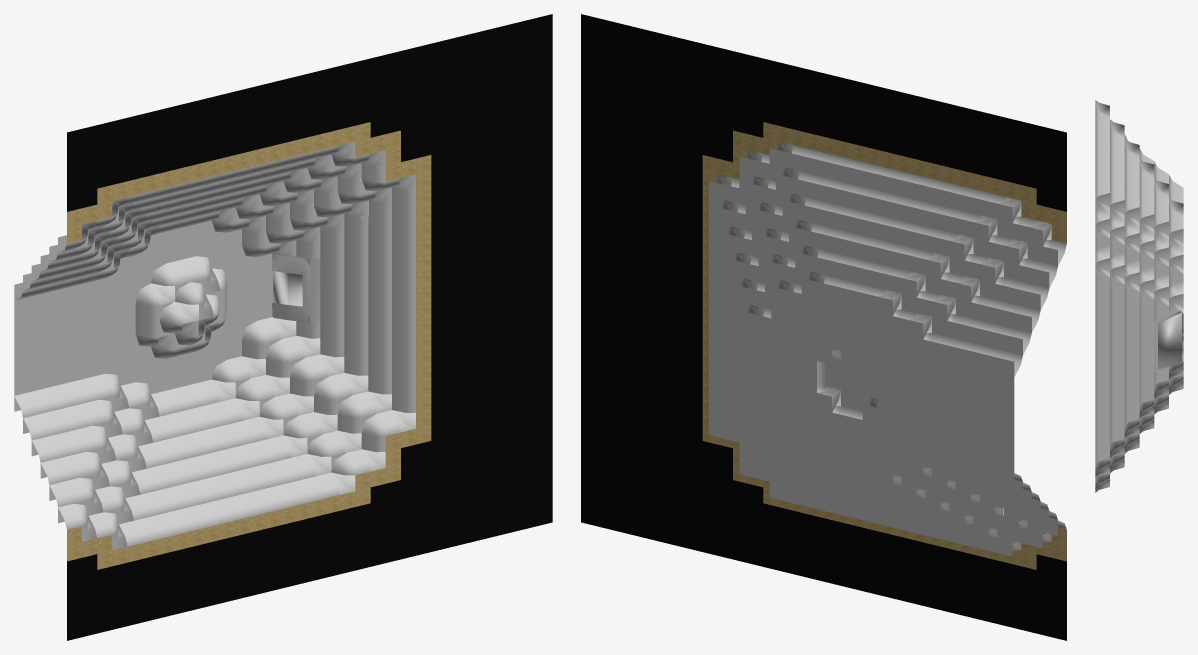
Rendered from Primal-Cave-1_02_01.obj.
The picture shows the model from 3 angles, left to right: view 1: azimuth 30°, elevation 25°; view 2: azimuth 150°, elevation 25°; view 3: azimuth 270°, elevation 25°; orthographic projection. The views are drawn at different scales.
Visible parts, largest first — view 1: map; view 2: map; view 3: map.
Boxes of the visible parts, box(x1,y1,x2,y2) form: map: box(14, 14, 552, 640); map: box(581, 14, 1066, 640); map: box(1095, 100, 1183, 492).
Size of the model in its own units: 32 by 32 by 6.
